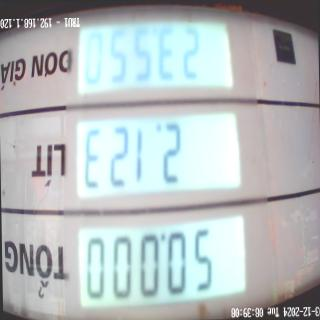screen: (69, 7, 249, 316)
